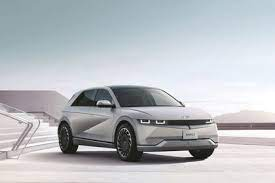Honda Ioniq: (55, 83, 219, 162)
